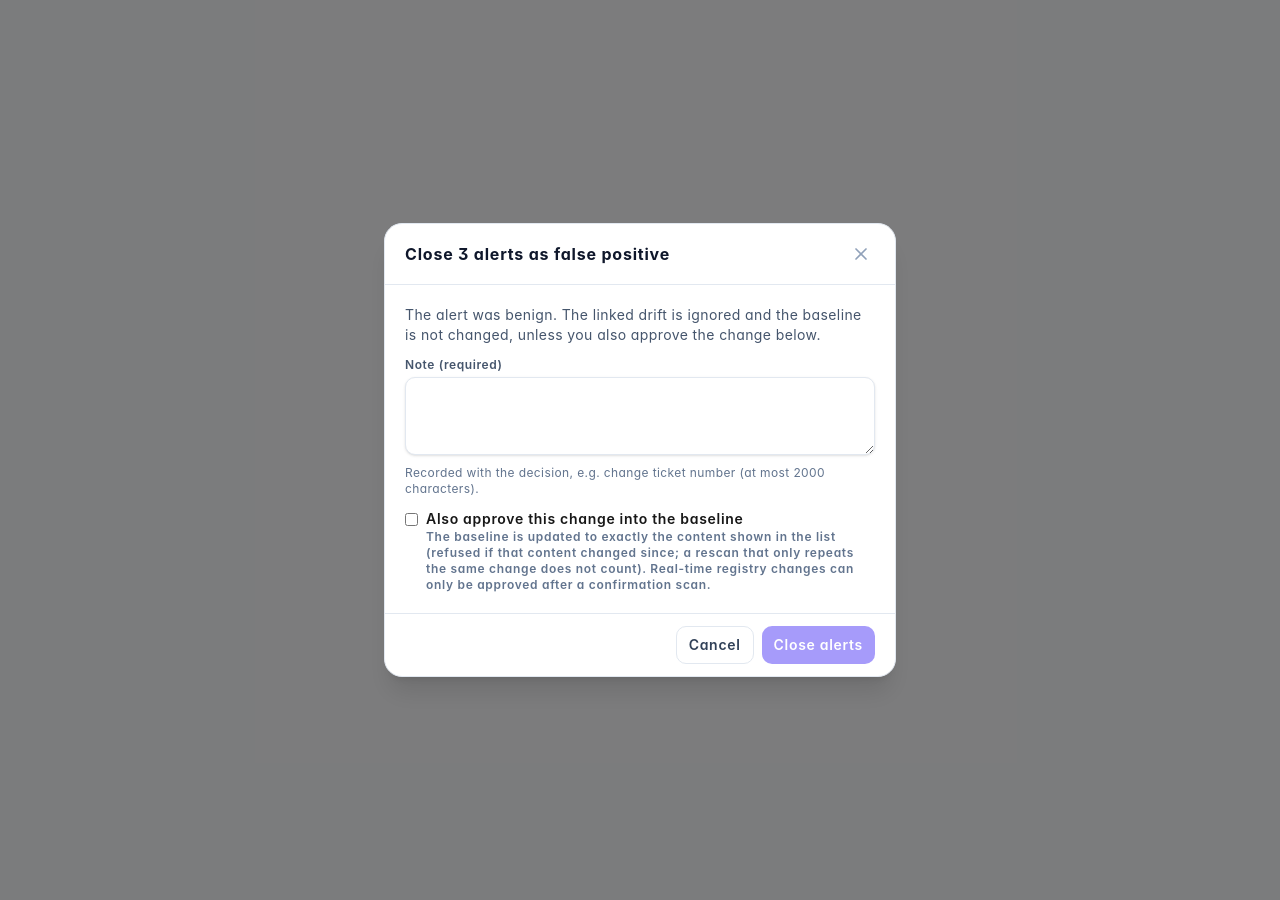
Test: CloseModal (alerts, approveChange) › sends expected keyed by driftId with contentHash only and lists alerts NOT closed
The width and height of the screenshot is (1280, 900).
Type "benign" into the text box labelled "Note (required)". click: (640, 416)
box: [405,377,875,455]
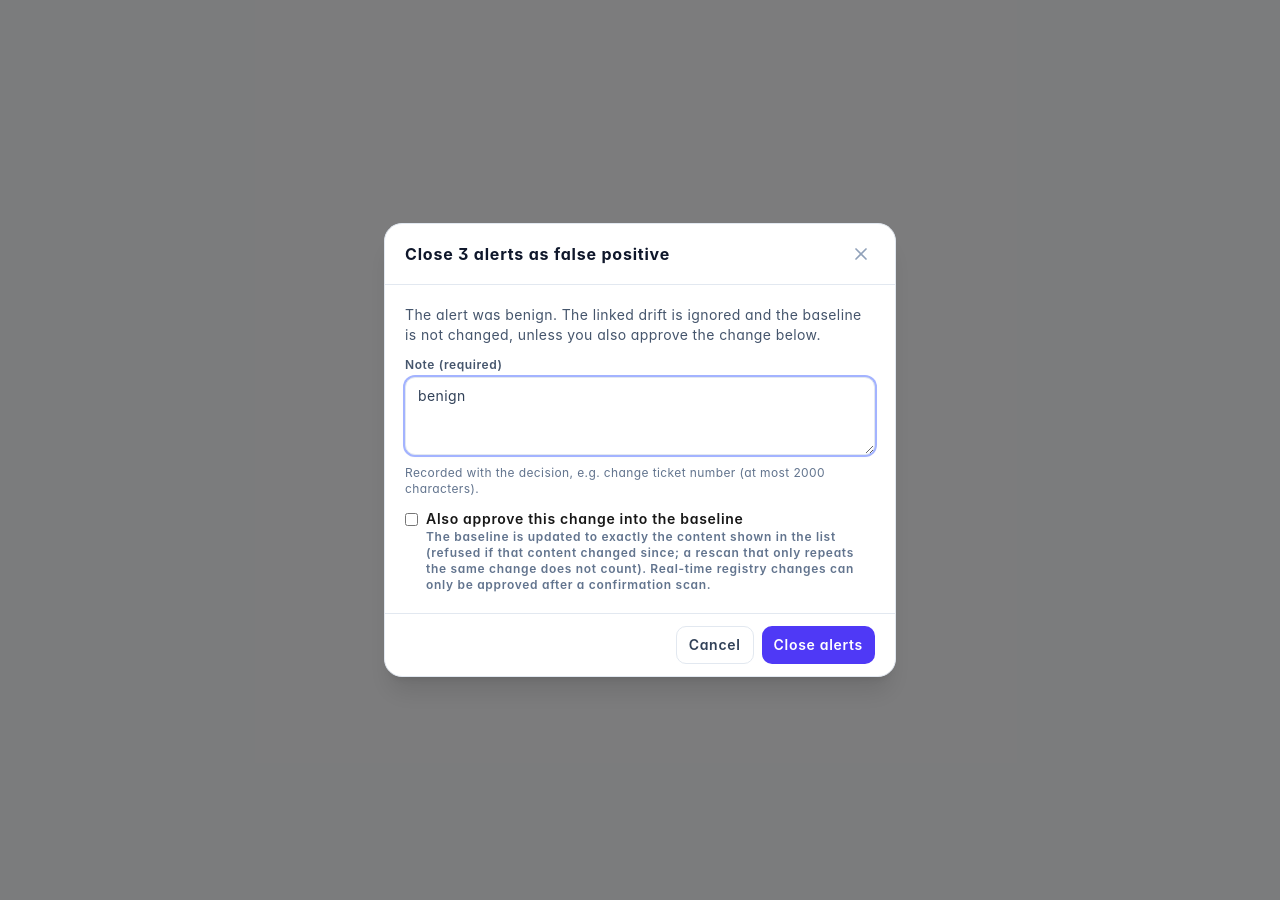
Click the checkbox labelled "Also approve this change". click: (412, 520)
box: [405,513,418,526]
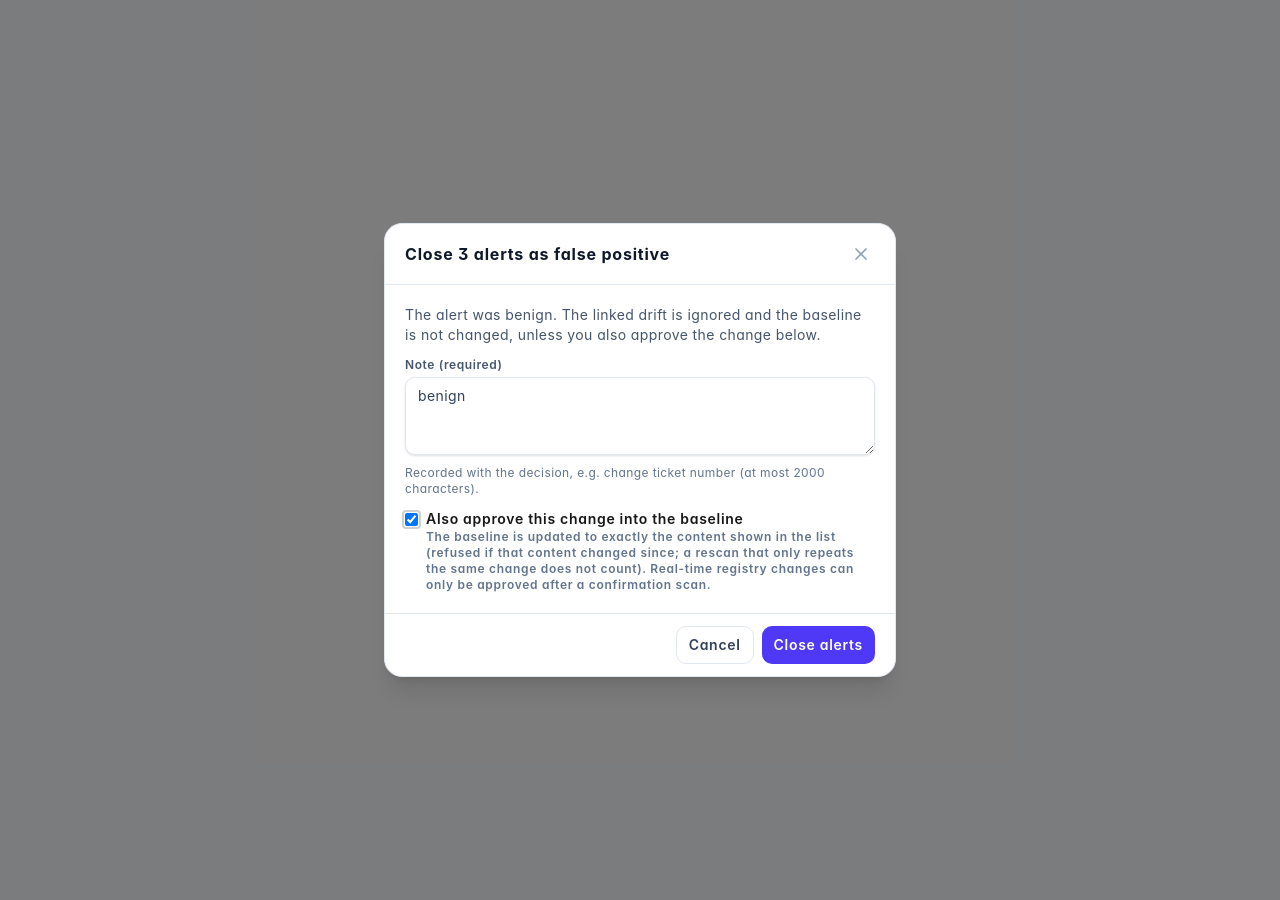
Click the button "Close alerts". click: (818, 645)
box: [762,626,875,664]
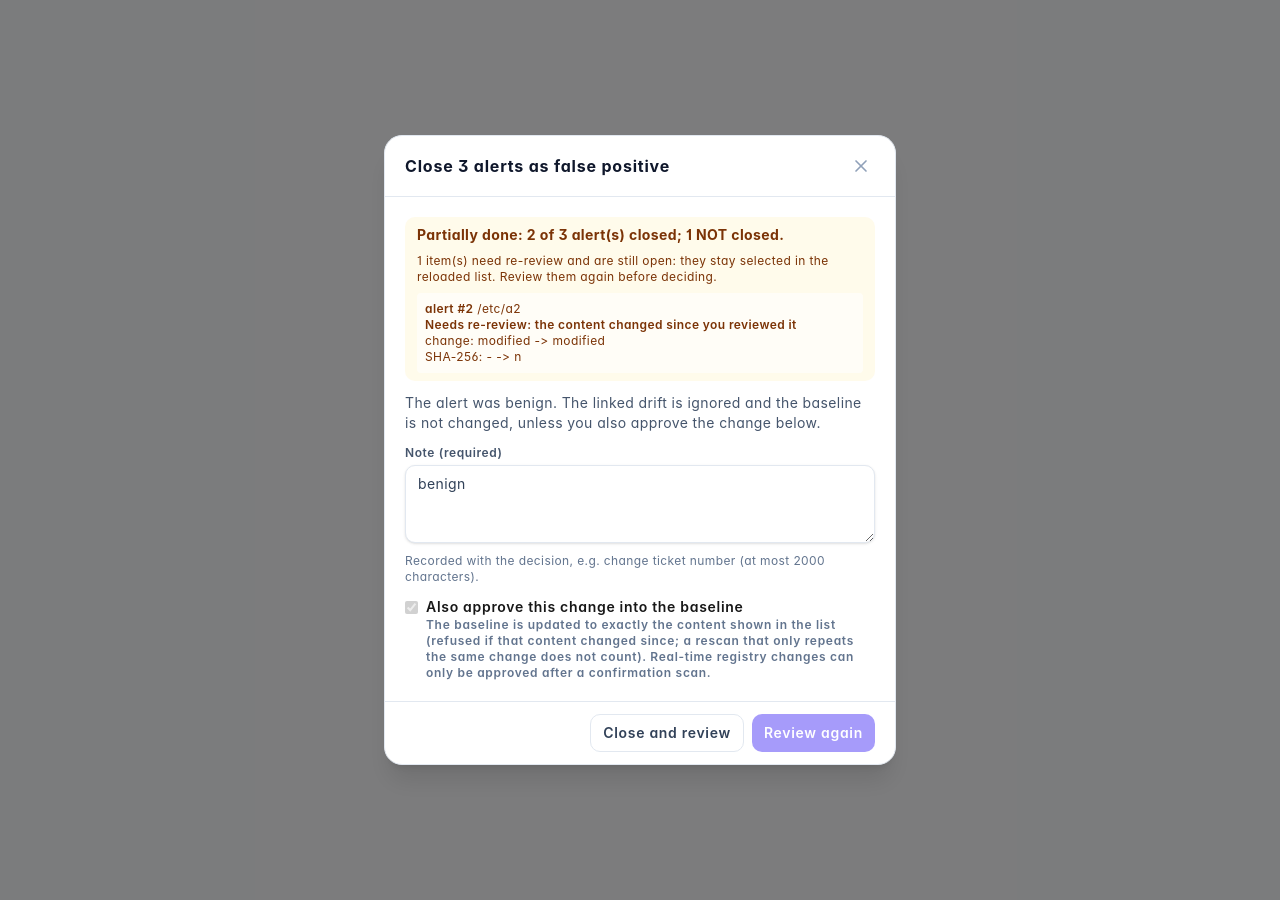
Check: the message with test id "fim-bulk-refused" shows "2 of 3 alert(s) closed; 1 NOT closed", box [405,217,875,381]
Check: the text "Needs re-review: the content changed since you reviewed it" is shown, box [425,317,855,333]
